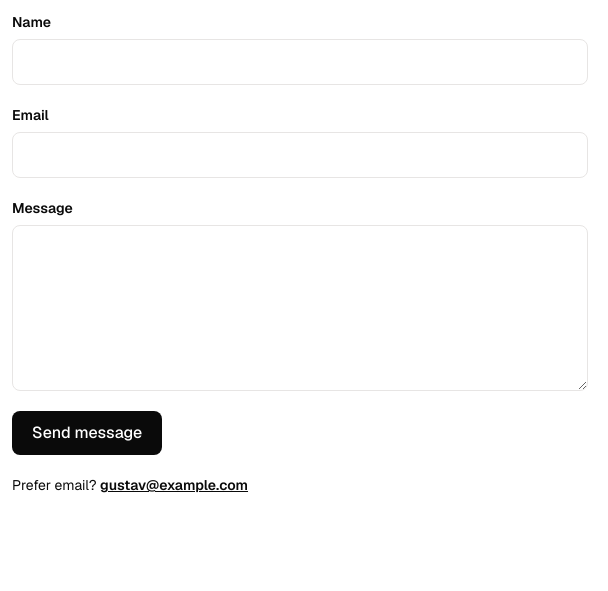
it: ContactForm › marks invalid fields with aria-invalid and clears the errors on a valid retry
Click the button "Send message" at (87, 433), box [12,411,162,455]
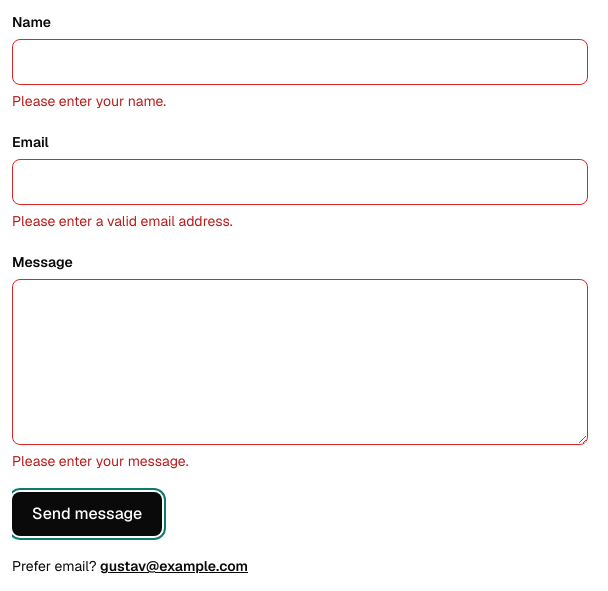
Type "Ada Lovelace" into the field labelled "Name" at (300, 62), box [12,39,588,85]
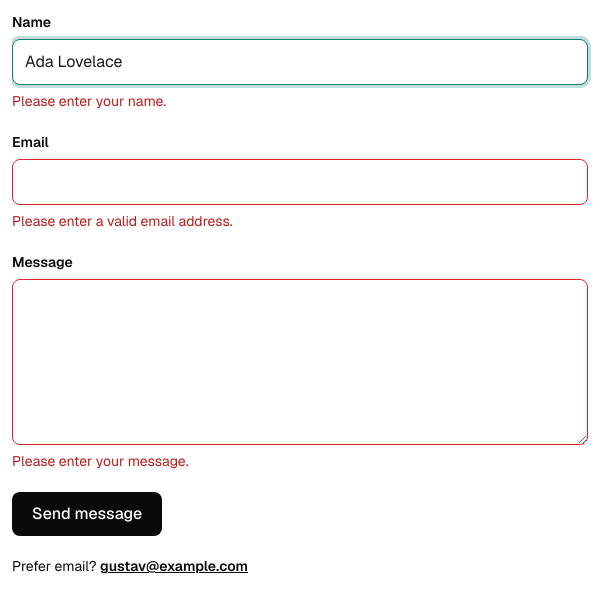
Type "ada@example.com" into the field labelled "Email" at (300, 182), box [12,159,588,205]
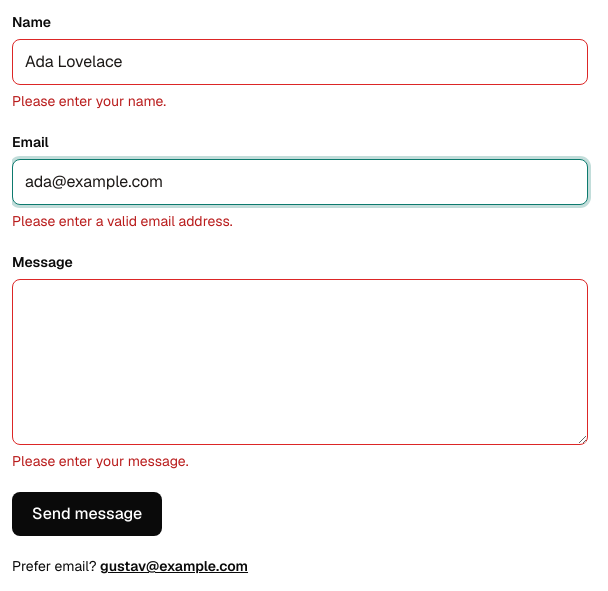
Type "Hello" into the text box labelled "Message" at (300, 362), box [12,279,588,445]
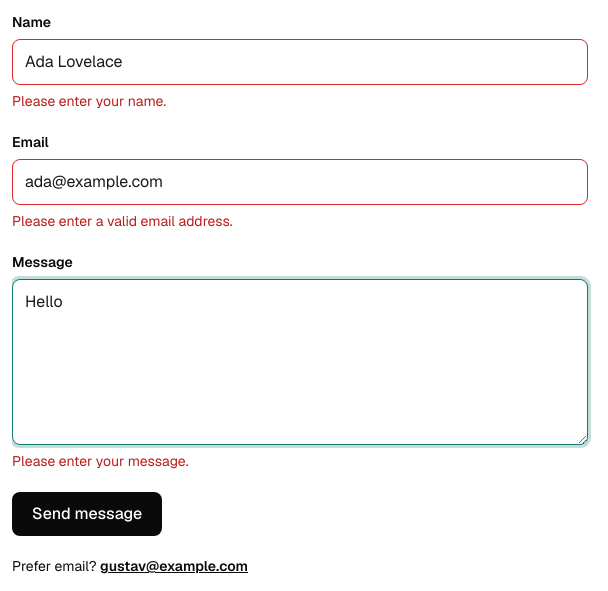
Click the button "Send message" at (87, 514), box [12,492,162,536]
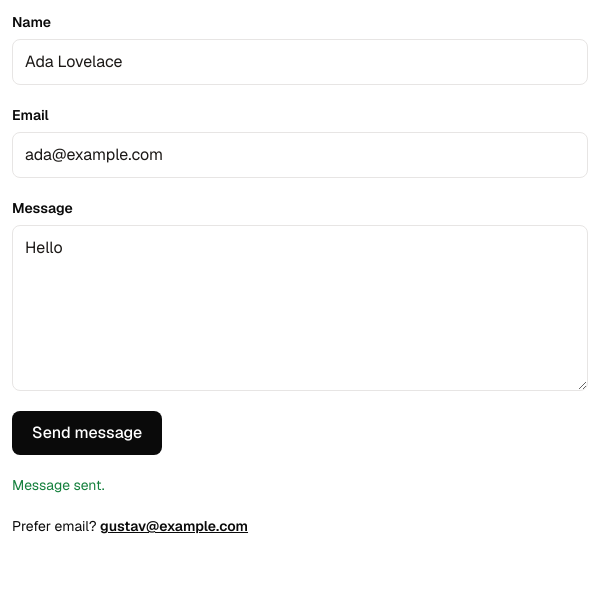
Now the text "Please enter your name." is gone
